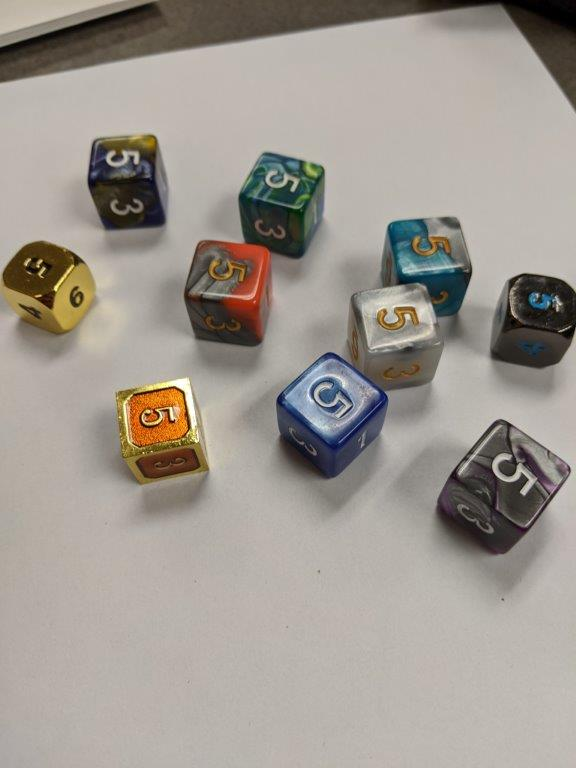d6-5: (435, 419, 573, 558), (276, 349, 385, 480), (114, 376, 211, 483), (348, 283, 440, 391), (1, 240, 100, 337), (238, 148, 325, 258), (183, 236, 274, 340), (384, 216, 471, 314), (88, 138, 174, 231), (494, 271, 574, 368)
